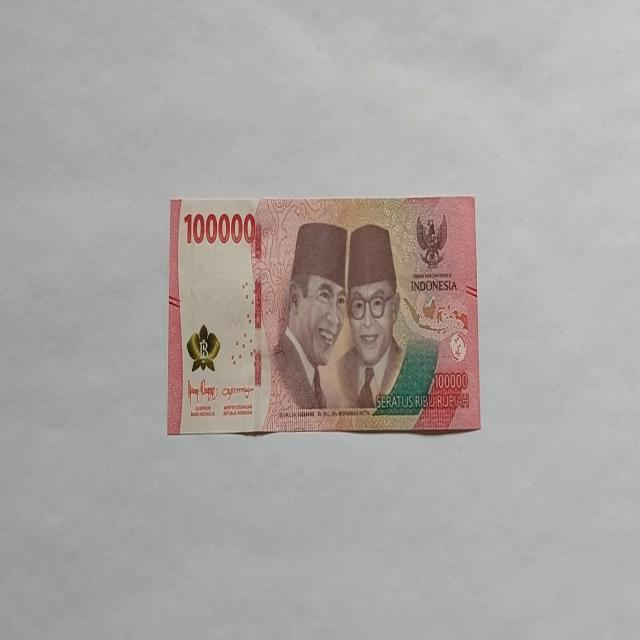seratus ribu rupiah: (167, 194, 481, 436)
